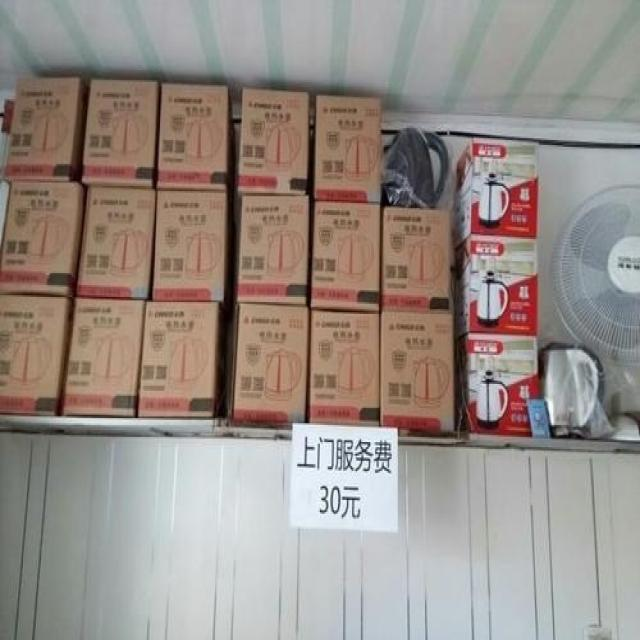box: (225, 304, 308, 428), (0, 181, 86, 299), (452, 137, 539, 251), (63, 297, 145, 416), (381, 311, 456, 437), (137, 302, 218, 418), (452, 234, 539, 341), (3, 77, 90, 183), (76, 186, 156, 300), (156, 84, 236, 196), (453, 333, 540, 435), (152, 191, 227, 304), (82, 79, 159, 188), (236, 195, 310, 307), (310, 311, 381, 427), (0, 294, 68, 415), (310, 200, 381, 312), (238, 87, 310, 195), (381, 208, 453, 316), (314, 94, 380, 203)
